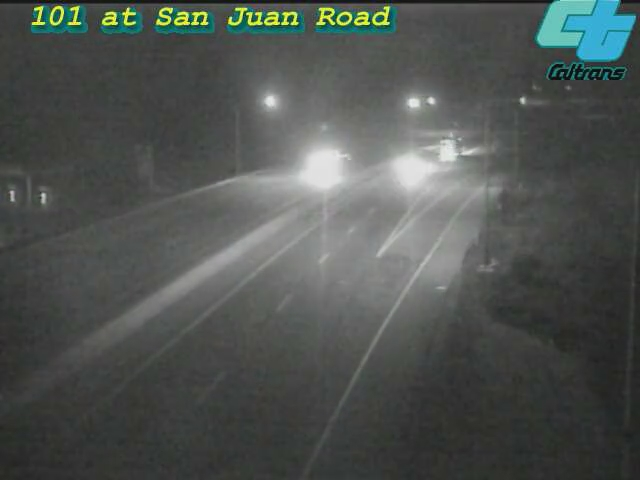vehicle: (283, 126, 363, 206), (375, 130, 455, 210), (425, 123, 475, 173)
